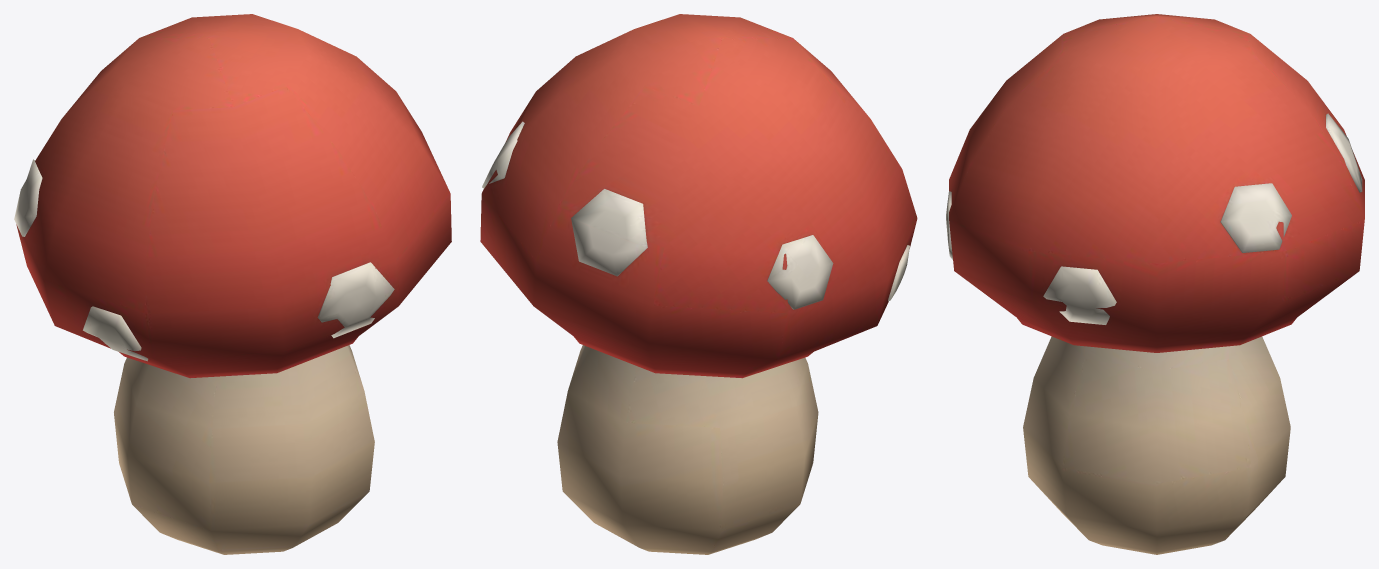
The model's file is mushroom_red_2_low.glb.
3 views of the same model, side by side, from view 1: azimuth 30°, elevation 25°; view 2: azimuth 150°, elevation 25°; view 3: azimuth 270°, elevation 25° (orthographic).
Parts seen in each view (by area): view 1: cap, mushroom_red_2; view 2: cap, mushroom_red_2; view 3: cap, mushroom_red_2.
Boxes of the visible parts, x1,y1,x2,y2 form: cap: [14, 14, 451, 378]; mushroom_red_2: [114, 345, 374, 554]; cap: [480, 14, 917, 378]; mushroom_red_2: [557, 345, 818, 554]; cap: [946, 14, 1364, 352]; mushroom_red_2: [1023, 336, 1290, 554].
Size of the model in its own units: 0.3981 by 0.4974 by 0.383.
1 material, 1 textured.
